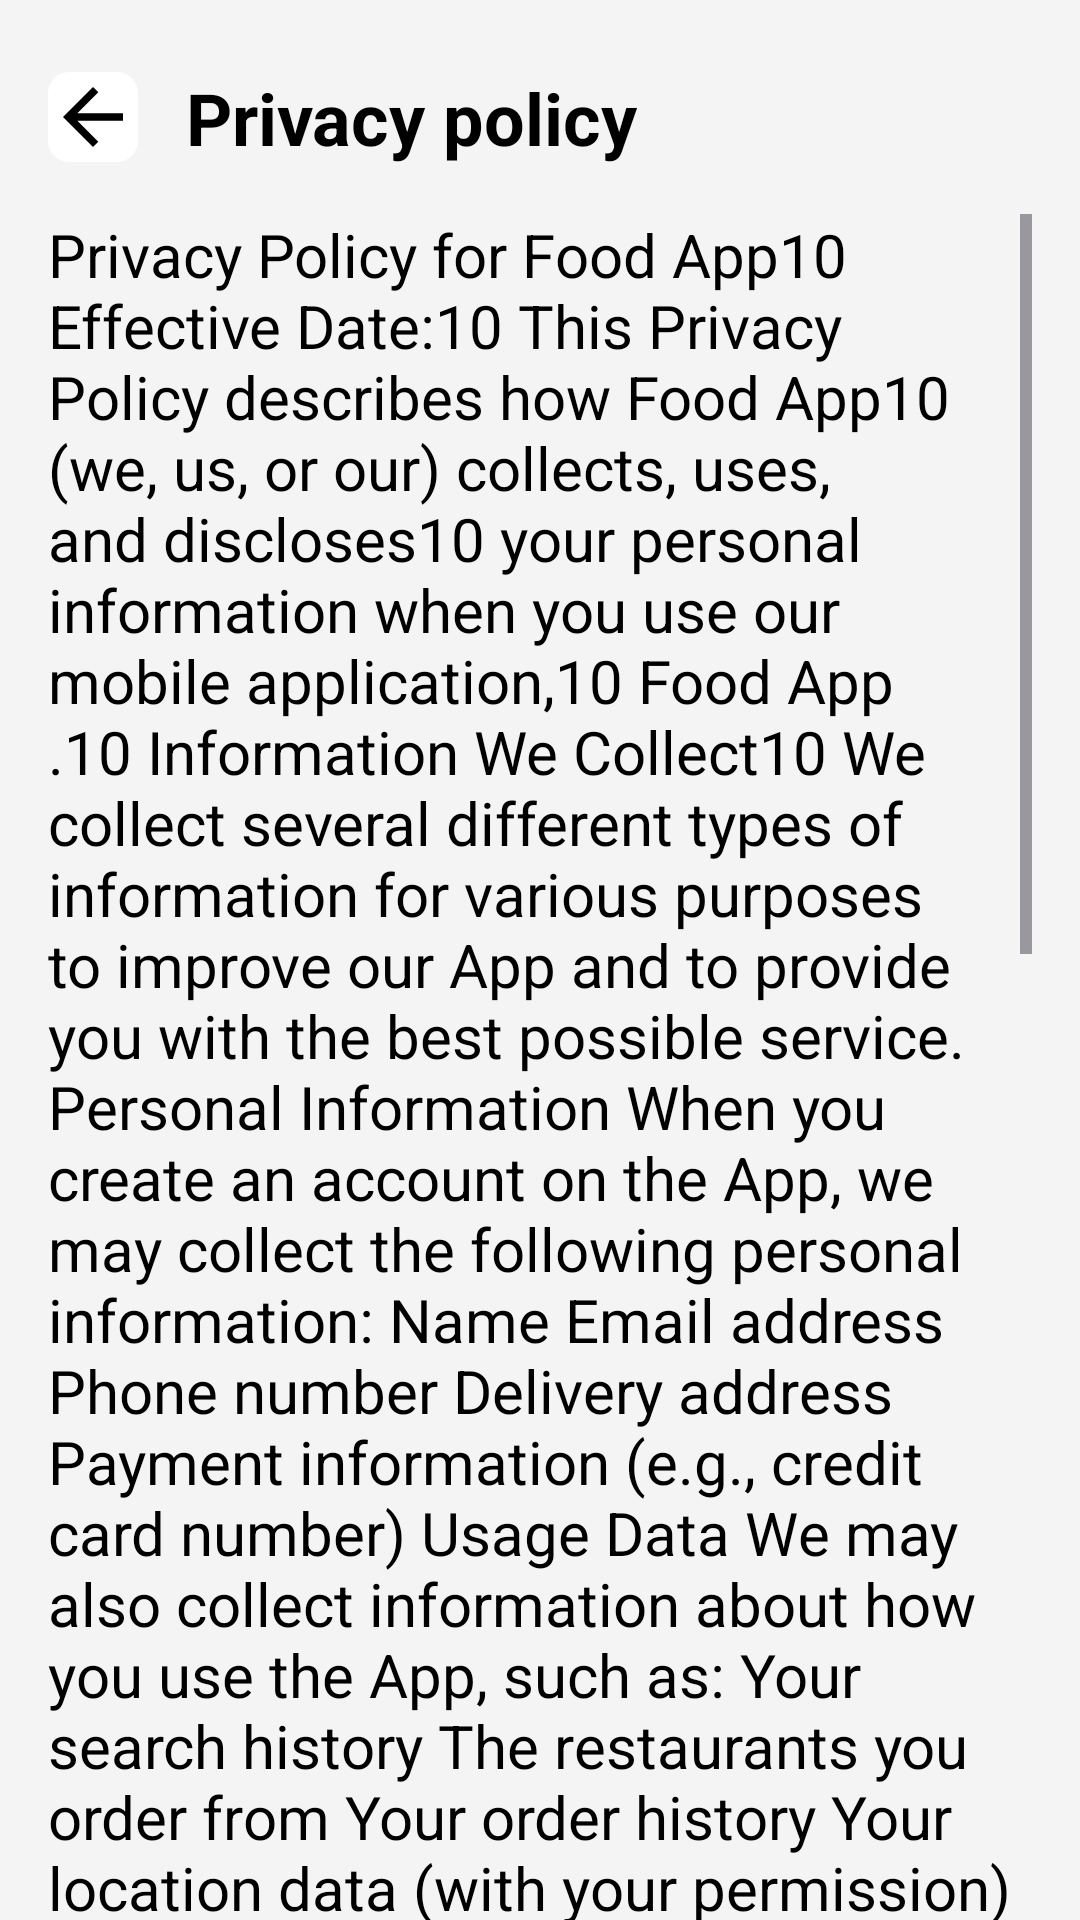

Icons on this 1080*1920 Android screen, each with the point to tap as point (x, y):
back: point (93, 117)
